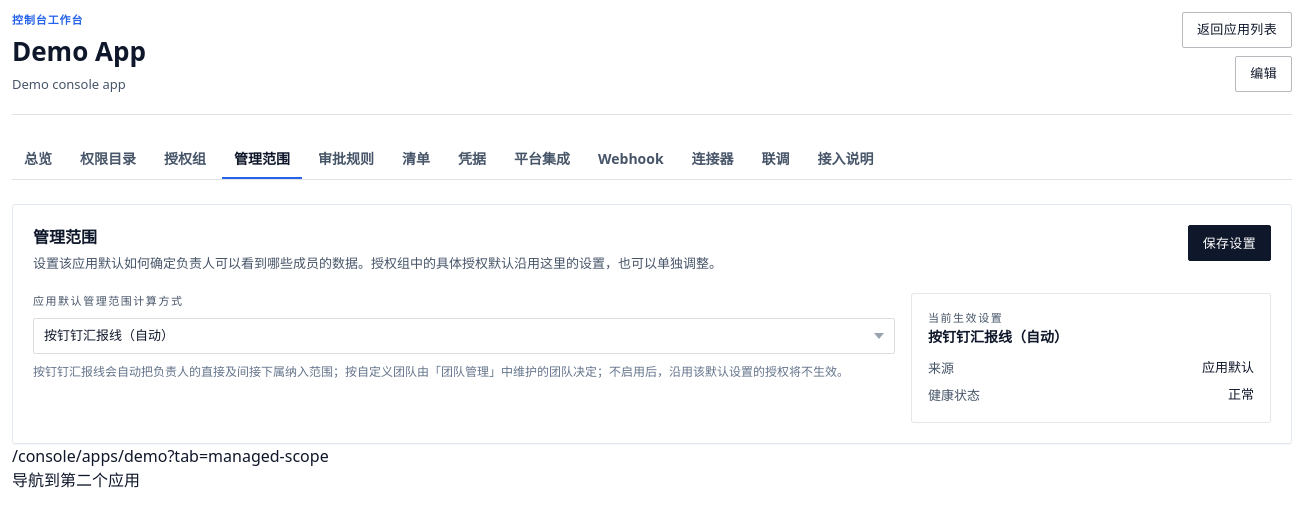
it: ConsoleAppWorkspace › 管理范围重新挂载时等待最新权威读取，读取失败后保持关闭直到重试成功
Check: the dropdown labelled "应用默认管理范围计算方式" shows "按钉钉汇报线（自动）", box [33,318,895,354]
Click the tab "联调".
click(776, 159)  # box [750,139,802,179]
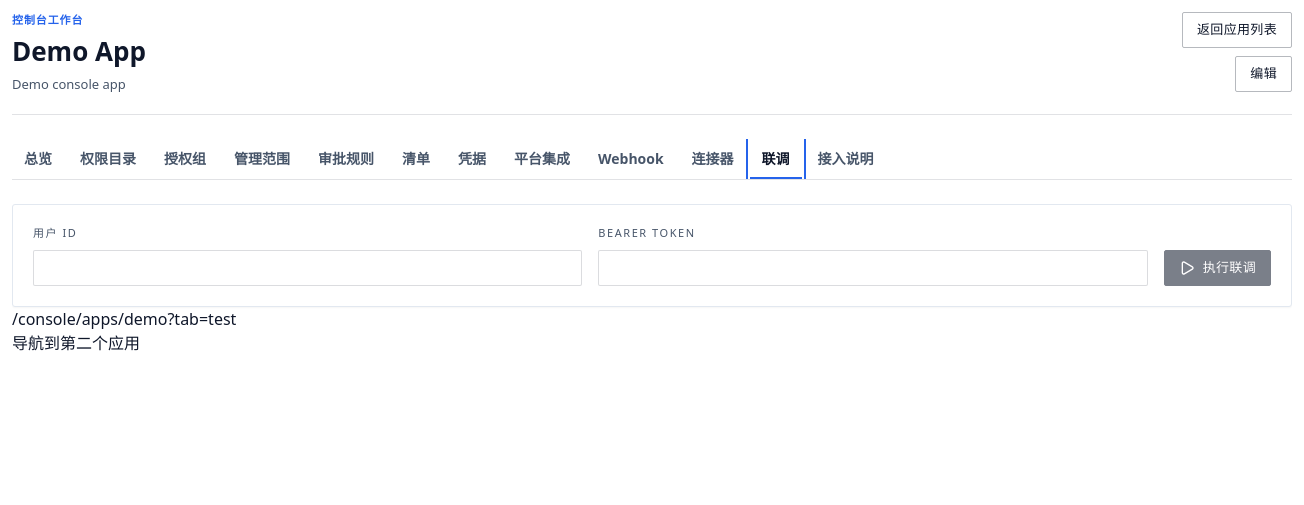
Click the tab "管理范围".
click(262, 159)  # box [222,139,302,179]
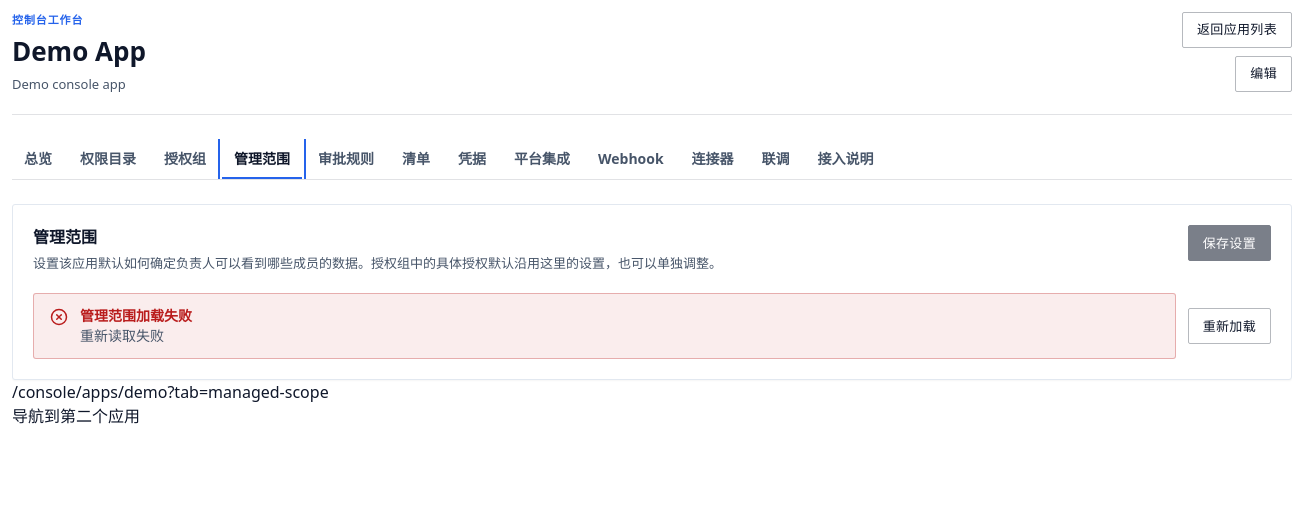
Check: the label labelled "应用默认管理范围计算方式" is not shown
Check: the text "重新读取失败" is shown, box [80,326,164,345]
Check: the button "保存设置" is disabled, box [1188,225,1271,261]
Click the button "重新加载".
click(1229, 326)  # box [1188,308,1271,344]
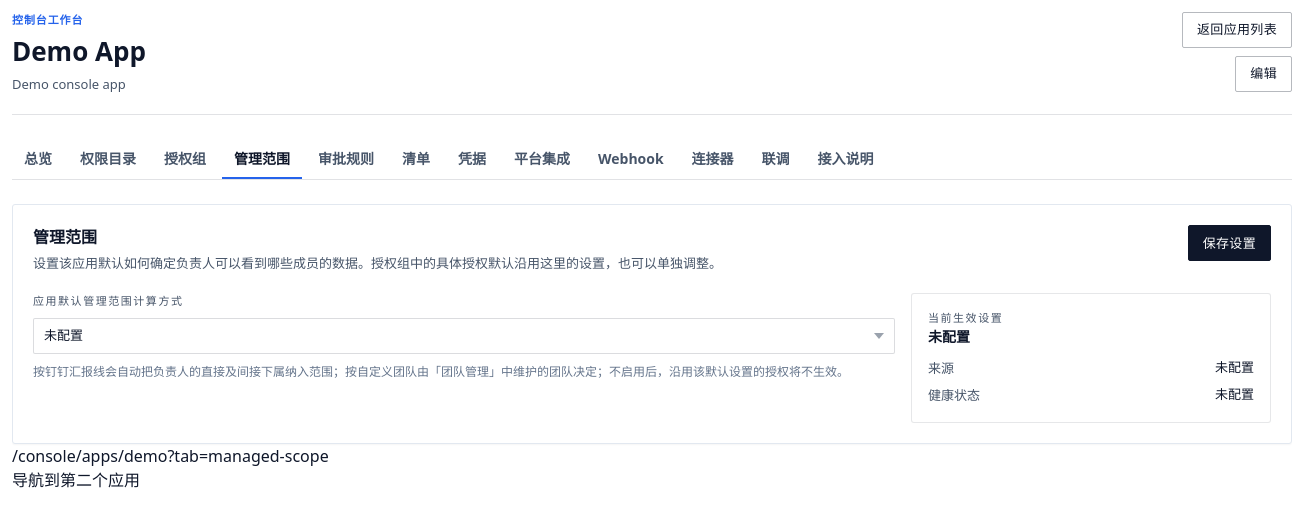
Check: the dropdown labelled "应用默认管理范围计算方式" shows "未配置", box [33,318,895,354]
Check: the button "保存设置" is enabled, box [1188,225,1271,261]
